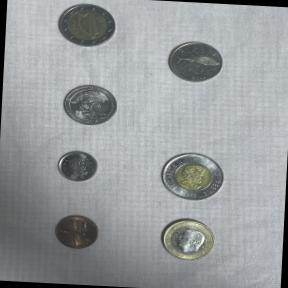coin: (152, 146, 233, 207), (49, 0, 122, 55), (162, 34, 230, 89), (56, 78, 124, 130), (154, 214, 221, 266), (50, 209, 104, 253), (50, 146, 102, 188)
